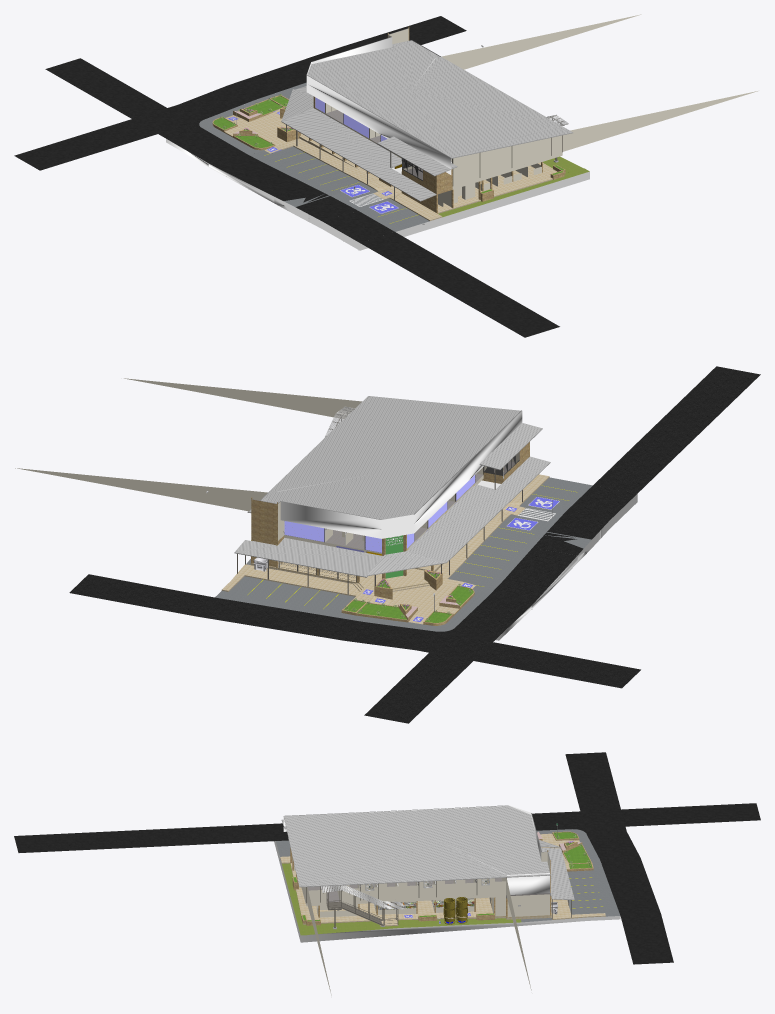
Rendered from msm.glb.
3 renders of one model, top to bottom at view 1: azimuth 30°, elevation 25°; view 2: azimuth 150°, elevation 25°; view 3: azimuth 270°, elevation 25°, orthographic. The views are drawn at different scales.
Visible parts, largest first — view 1: Mesh 268, Mesh 189, Mesh 110, Mesh 130, Mesh 241, Mesh 244, Mesh 239, Mesh 272, Mesh 238; view 2: Mesh 268, Mesh 189, Mesh 241, Mesh 244, Mesh 110, Mesh 130, Mesh 239, Mesh 128, Mesh 238, Mesh 138, Mesh 52, Mesh 127; view 3: Mesh 189, Mesh 268, Mesh 110, Mesh 130, Mesh 244, Mesh 241, Mesh 272, Mesh 239, Mesh 52, Mesh 238, Mesh 273, Mesh 138.
Part boxes in pixels (left/top/right/bottom): Mesh 268: left=14, top=16, right=559, bottom=337; Mesh 189: left=281, top=40, right=573, bottom=201; Mesh 110: left=315, top=14, right=757, bottom=207; Mesh 130: left=166, top=37, right=589, bottom=250; Mesh 241: left=199, top=82, right=429, bottom=231; Mesh 244: left=224, top=109, right=564, bottom=220; Mesh 239: left=212, top=26, right=565, bottom=213; Mesh 272: left=438, top=156, right=589, bottom=217; Mesh 238: left=213, top=96, right=563, bottom=193; Mesh 268: left=69, top=366, right=760, bottom=723; Mesh 189: left=234, top=396, right=550, bottom=577; Mesh 241: left=215, top=477, right=592, bottom=631; Mesh 244: left=221, top=474, right=549, bottom=624; Mesh 110: left=15, top=378, right=519, bottom=554; Mesh 130: left=206, top=411, right=637, bottom=640; Mesh 239: left=251, top=442, right=529, bottom=625; Mesh 128: left=284, top=475, right=475, bottom=602; Mesh 238: left=344, top=572, right=473, bottom=622; Mesh 138: left=287, top=454, right=519, bottom=552; Mesh 52: left=237, top=407, right=522, bottom=594; Mesh 127: left=363, top=497, right=559, bottom=621; Mesh 189: left=281, top=806, right=574, bottom=909; Mesh 268: left=14, top=752, right=760, bottom=964; Mesh 110: left=292, top=852, right=549, bottom=995; Mesh 130: left=274, top=805, right=620, bottom=942; Mesh 244: left=280, top=833, right=605, bottom=926; Mesh 241: left=276, top=829, right=620, bottom=922; Mesh 272: left=282, top=863, right=521, bottom=935; Mesh 239: left=290, top=831, right=593, bottom=925; Mesh 52: left=306, top=847, right=571, bottom=927; Mesh 238: left=293, top=832, right=592, bottom=921; Mesh 273: left=443, top=897, right=467, bottom=924; Mesh 138: left=307, top=878, right=550, bottom=902.
Size of the model in its own units: 94.55 by 9.91 by 110.
Materials: 229 (125 with a texture image).
